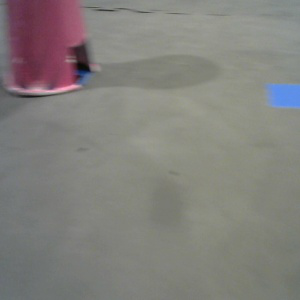middle: (4, 1, 99, 95)
